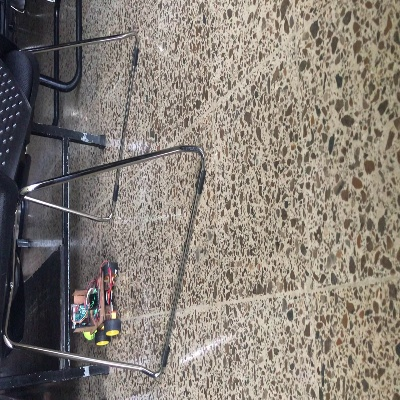Ball: (81, 331, 95, 340)
Robot: (72, 262, 118, 345)
